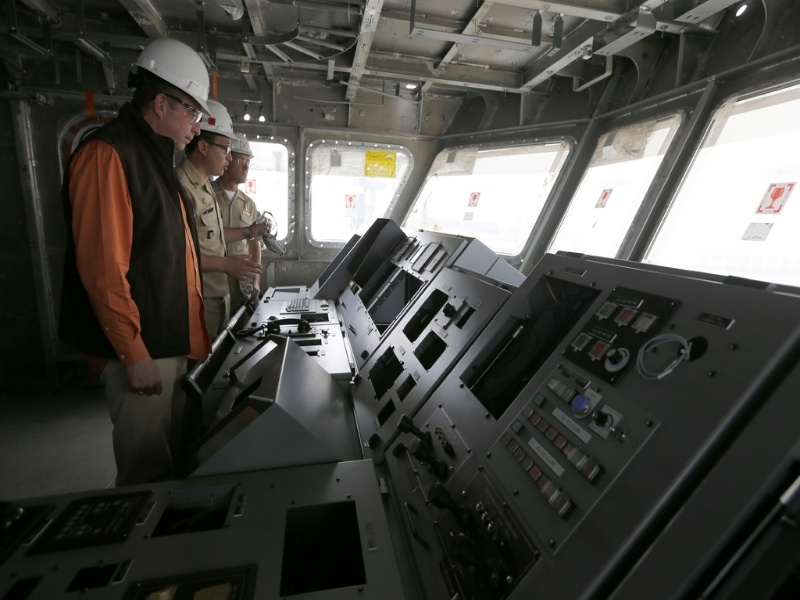baret: (125, 36, 214, 121)
